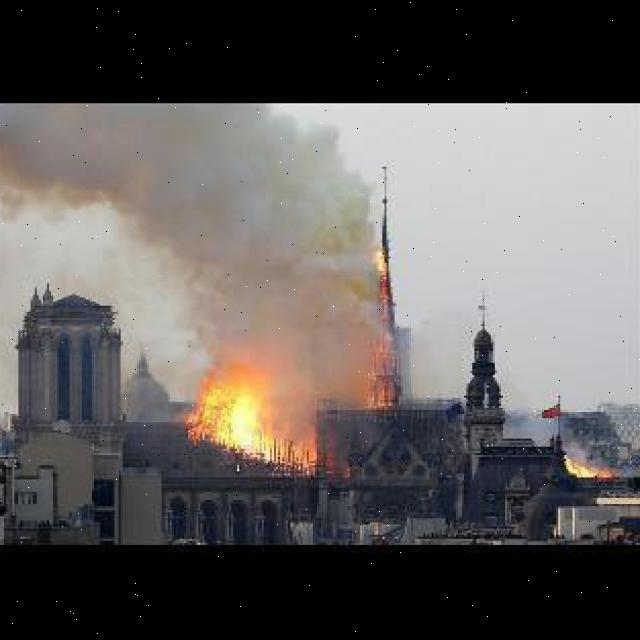fire: (186, 383, 321, 461), (366, 236, 399, 404), (558, 451, 618, 477)
smoke: (0, 102, 370, 386)
